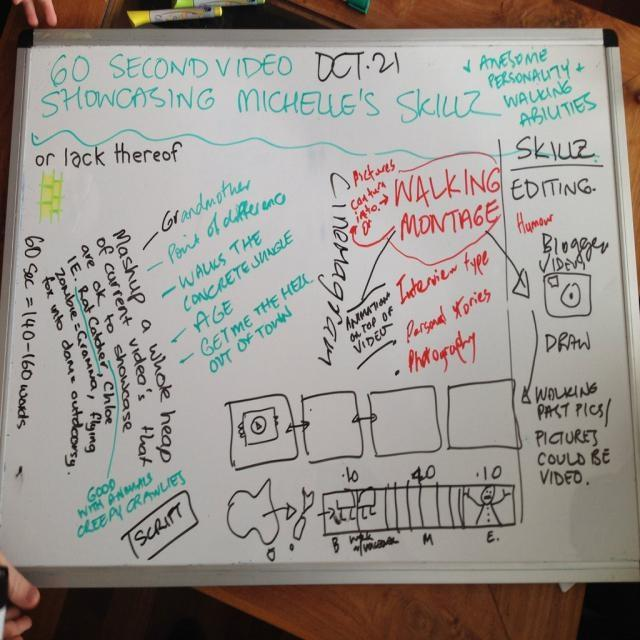Whiteboard: (1, 25, 639, 586)
